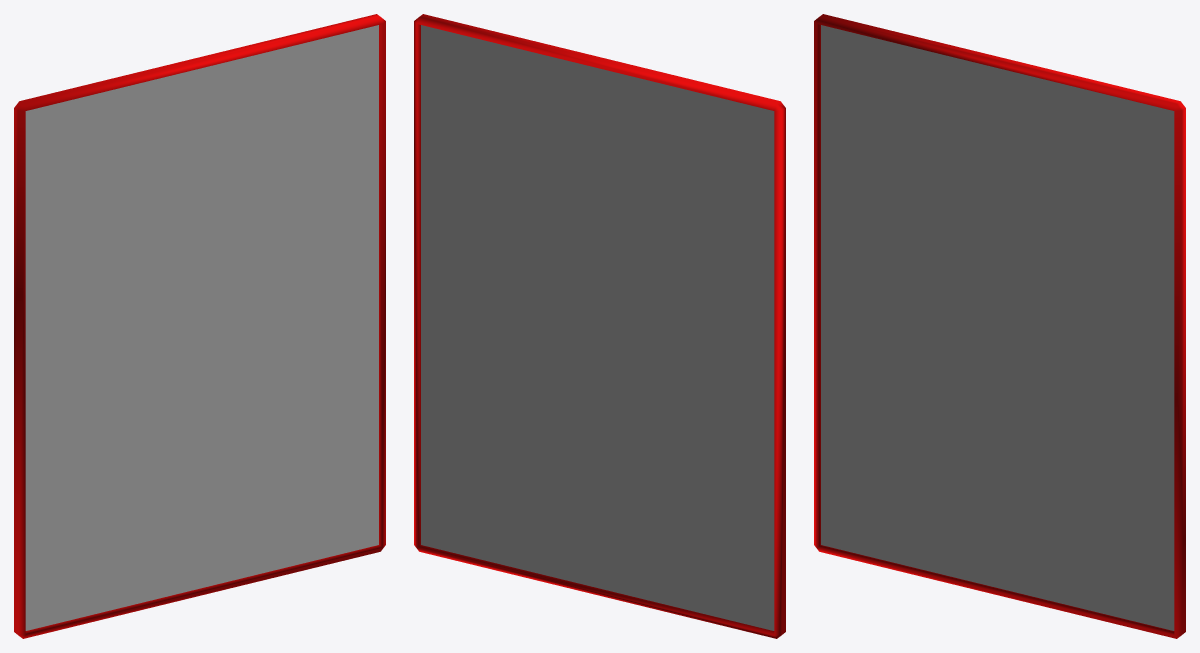
File: solar panel.fbx
3 renders of one model, left to right at view 1: azimuth 30°, elevation 25°; view 2: azimuth 150°, elevation 25°; view 3: azimuth 330°, elevation 25°, orthographic.
Visible parts, largest first — view 1: pCube1; view 2: pCube1; view 3: pCube1.
Boxes of the visible parts, x1,y1,x2,y2 form: pCube1: [14, 14, 385, 638]; pCube1: [414, 14, 785, 638]; pCube1: [814, 14, 1185, 638].
Size of the model in its own units: 1540 by 2140 by 63.5.
